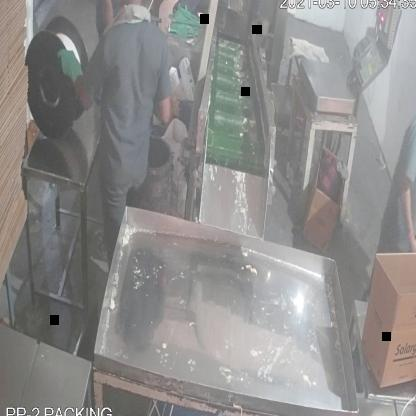no_glove: (394, 166, 416, 264)
